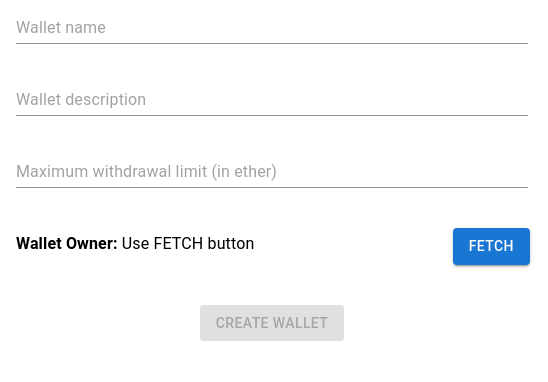
Scenario: CreateWallet › should display a field required error if wallet name is not provided
The width and height of the screenshot is (548, 382).
Click the field with placeholder "Wallet name".
click(272, 28)  # box top-left (16, 12), bottom-right (528, 44)
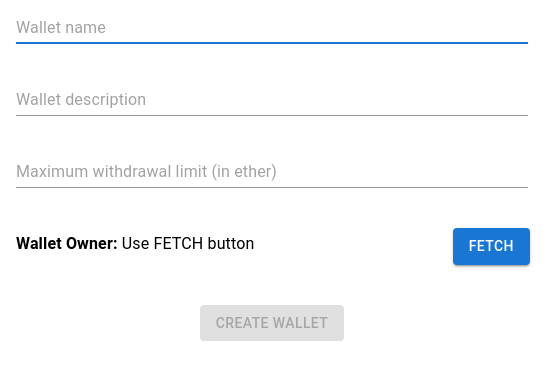
Click the field with placeholder "Maximum withdrawal limit (in ether)".
click(272, 172)  # box top-left (16, 156), bottom-right (528, 188)
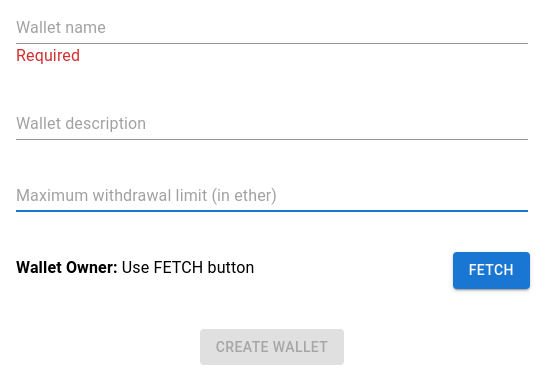
Expected: the button "Create Wallet" is disabled, top-left (200, 328), bottom-right (344, 365)
Result: the text "Required" is shown at top-left (16, 46), bottom-right (80, 65)
